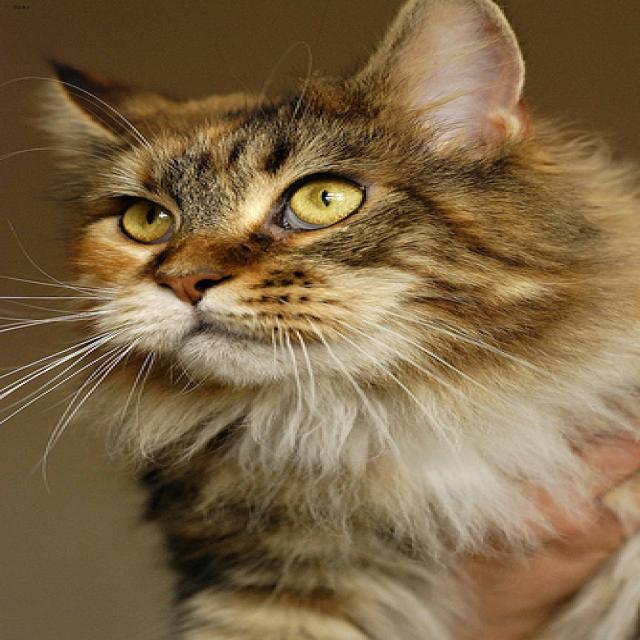Maine_Coon: (40, 0, 521, 384)
